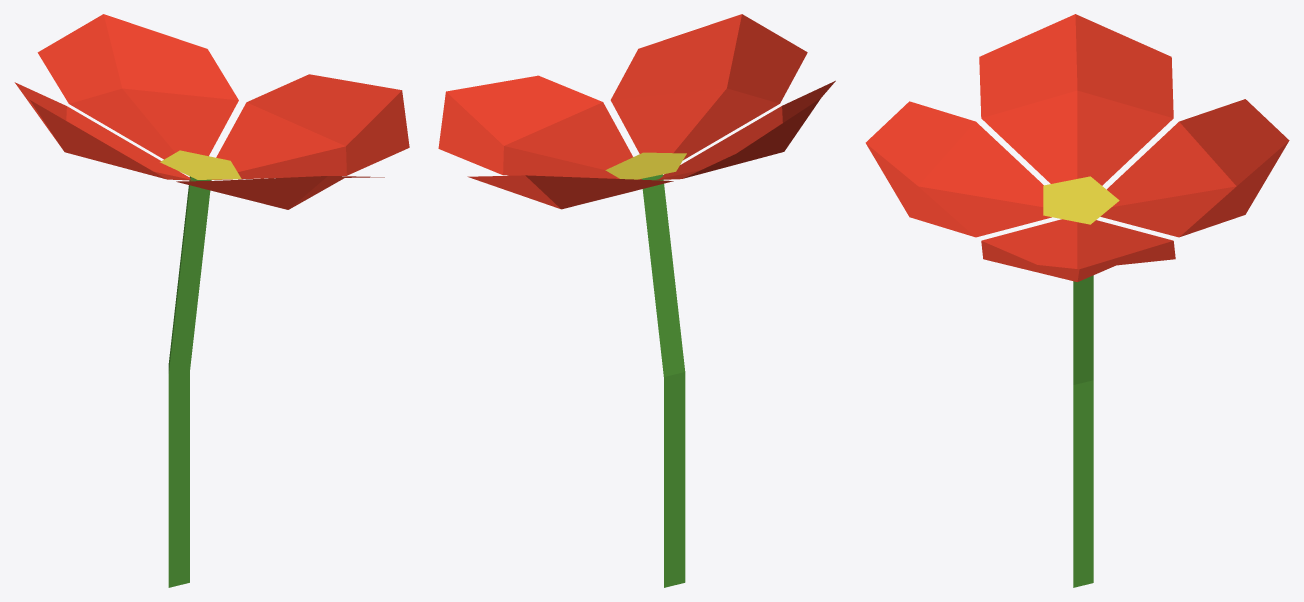
The model's file is flower.fbx.
3 renders of one model, left to right at view 1: azimuth 30°, elevation 25°; view 2: azimuth 150°, elevation 25°; view 3: azimuth 270°, elevation 25°, orthographic. The views are drawn at different scales.
Visible parts, largest first — view 1: Flower; view 2: Flower; view 3: Flower.
Part boxes in pixels (x1,y1,x2,y2): Flower: [14, 14, 409, 587]; Flower: [438, 14, 835, 587]; Flower: [865, 14, 1289, 587].
Bounding box in the file's own units: 224 × 298 × 229.
